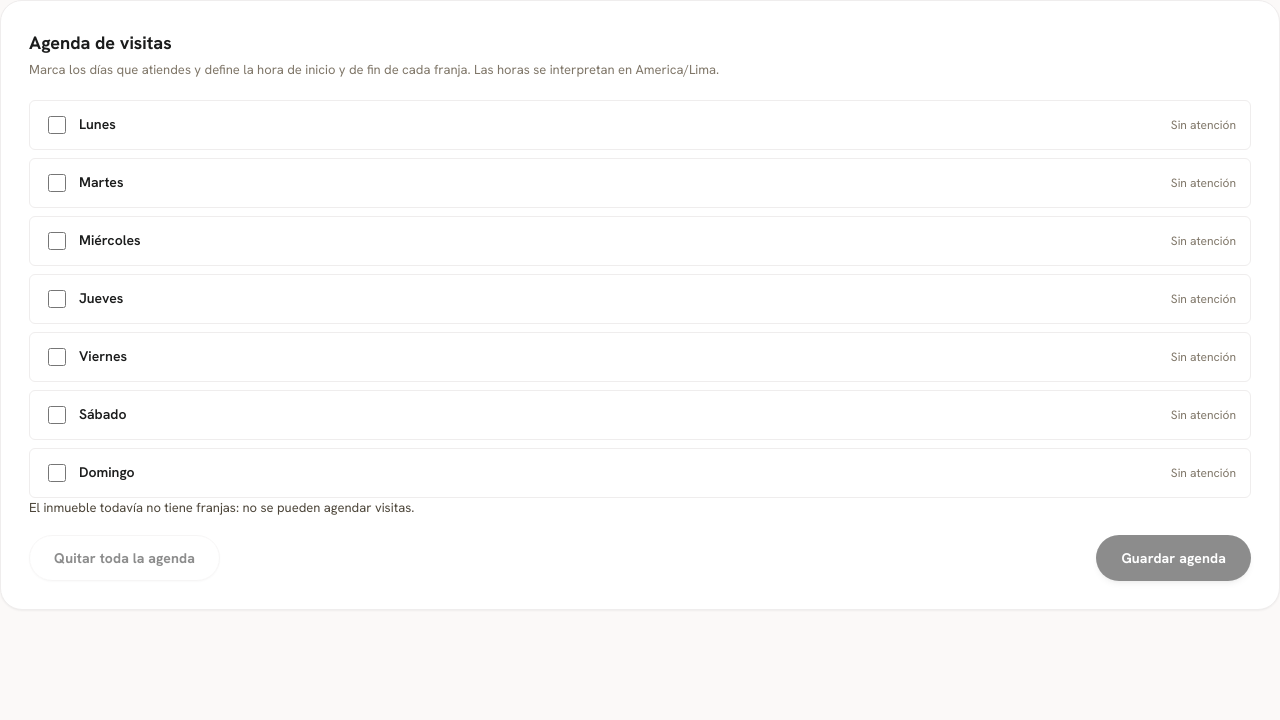
Test: ScheduleManager (accesibilidad) › anuncia el guardado o el rechazo conservando el borrador (éxito: true)
This screenshot has width=1280, height=720.
Press Tab
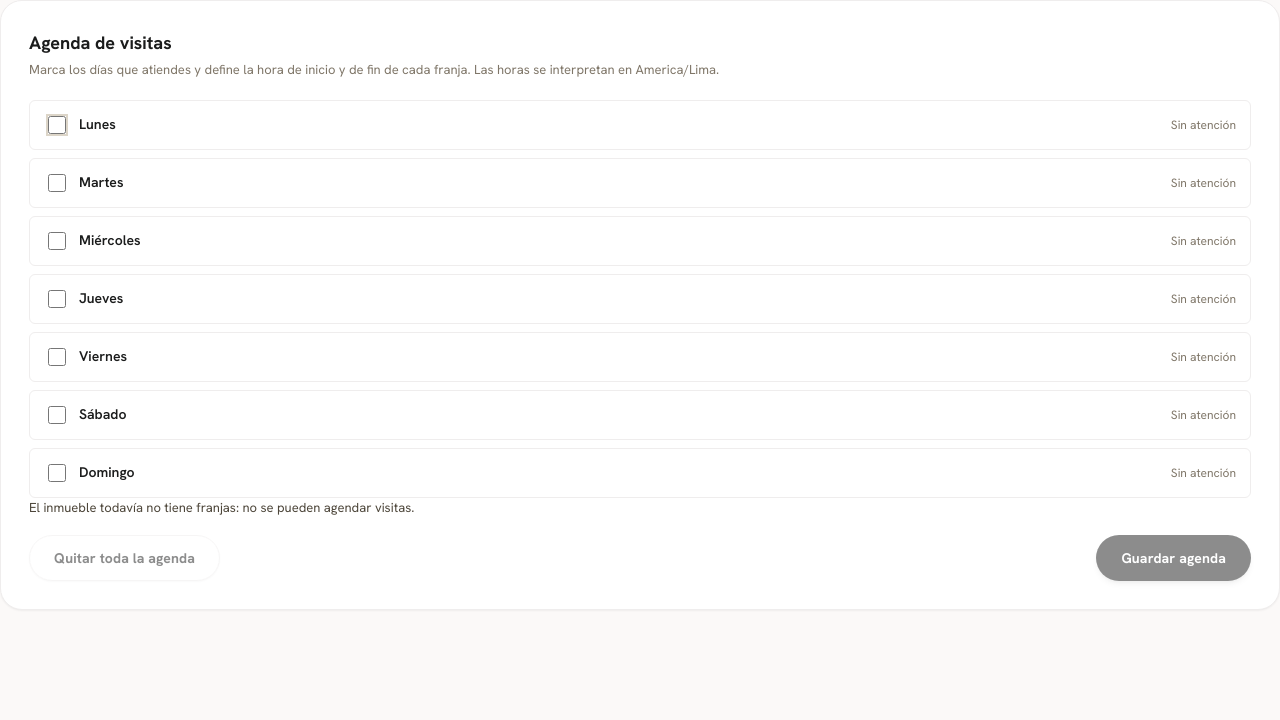
Type keys " "
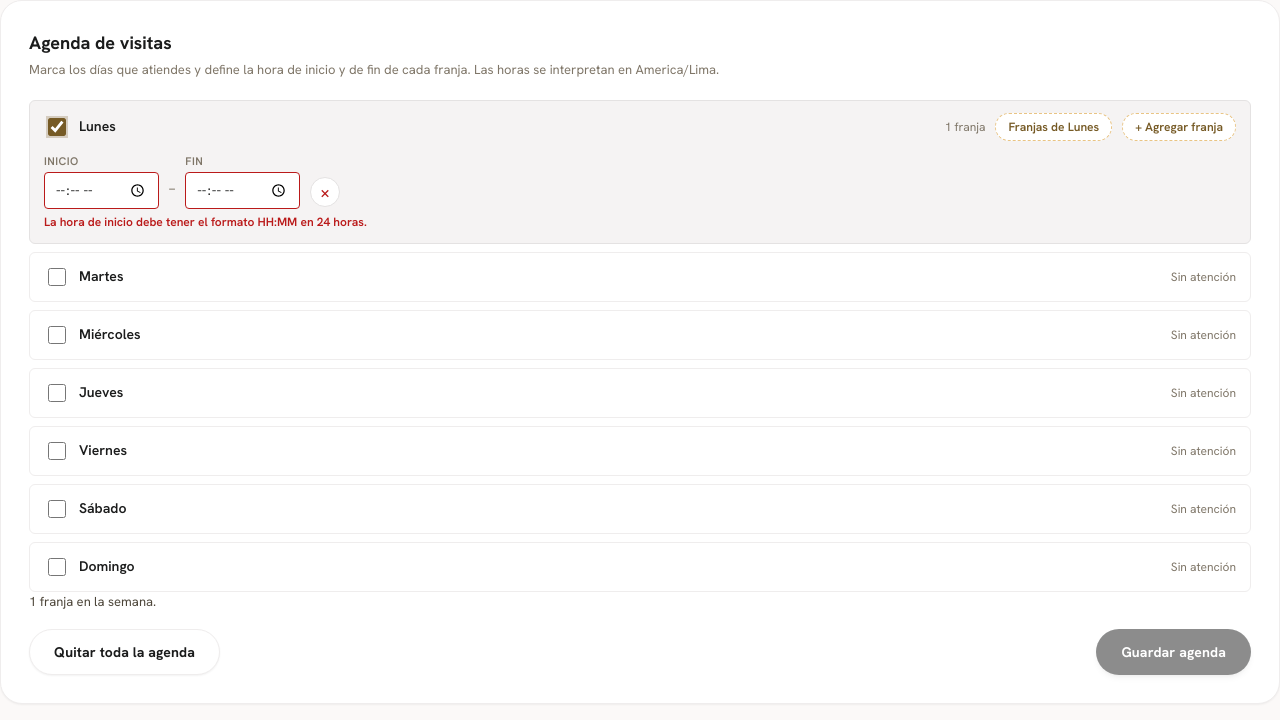
Type "09:00" into the time field named "Franja 1 de Lunes: hora de inicio" at (101, 190), box [44,172,159,209]
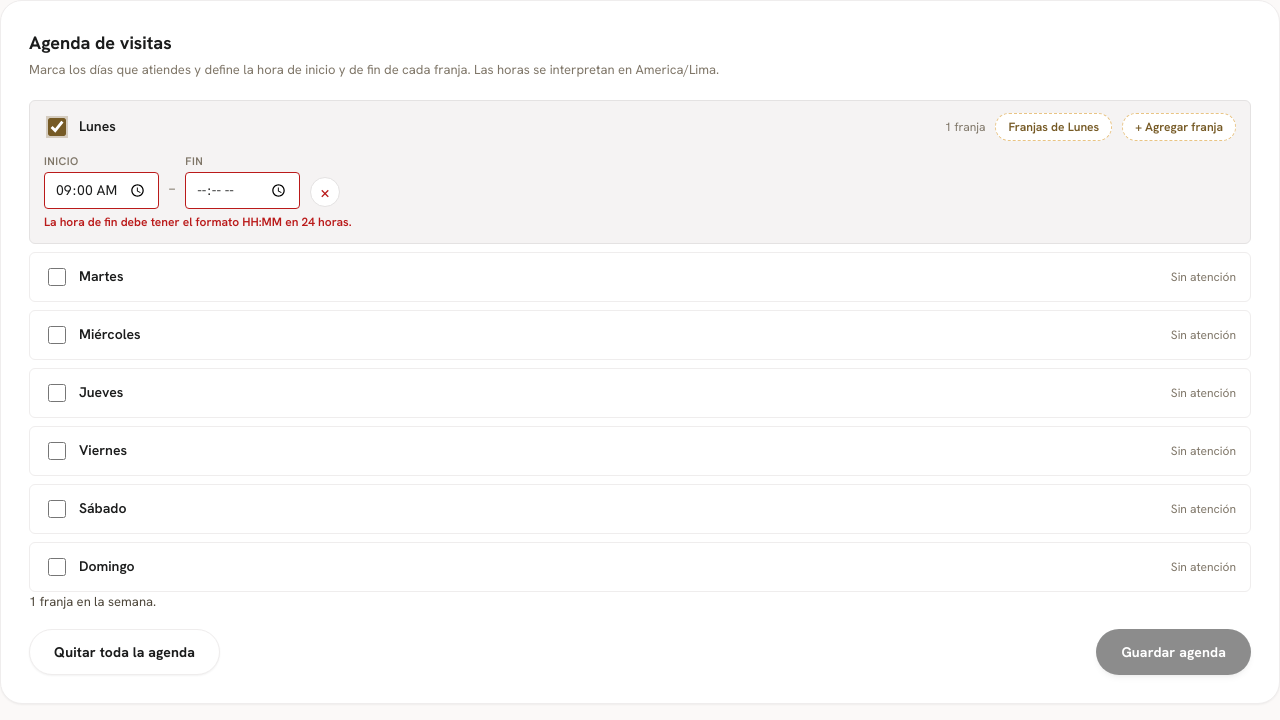
Type "10:00" into the time field named "Franja 1 de Lunes: hora de fin" at (243, 190), box [185,172,300,209]
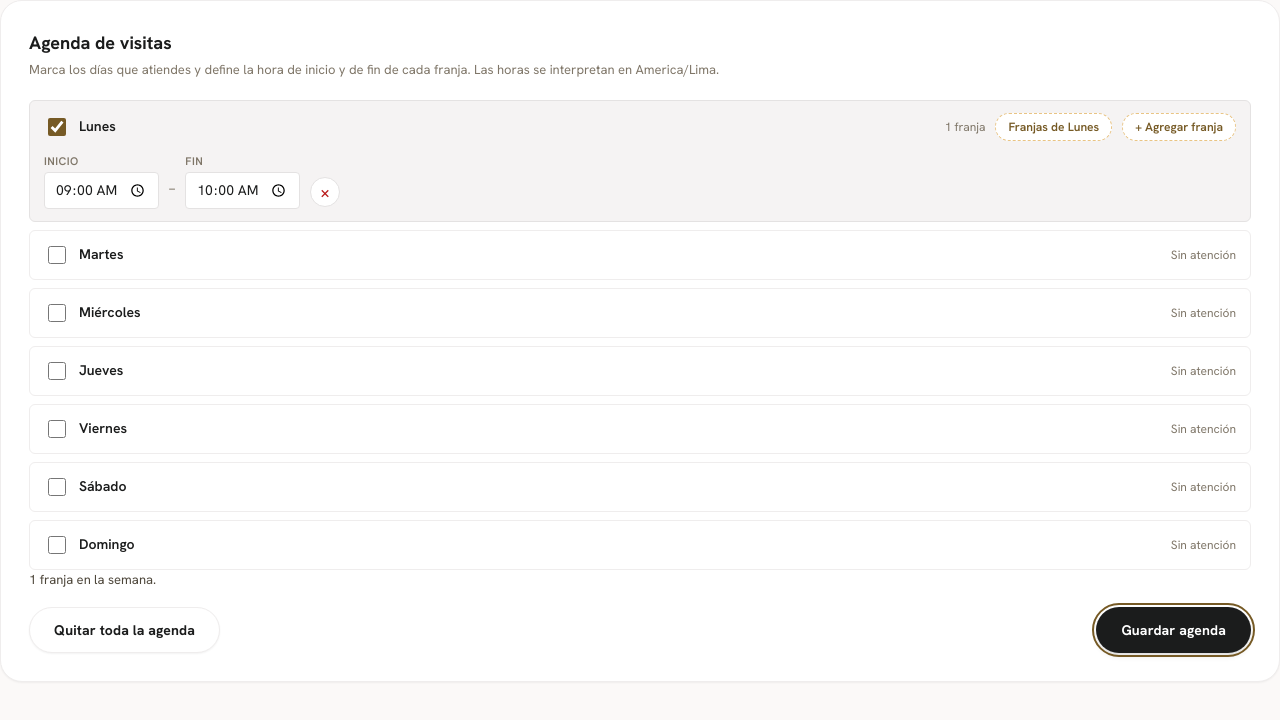
Press Enter
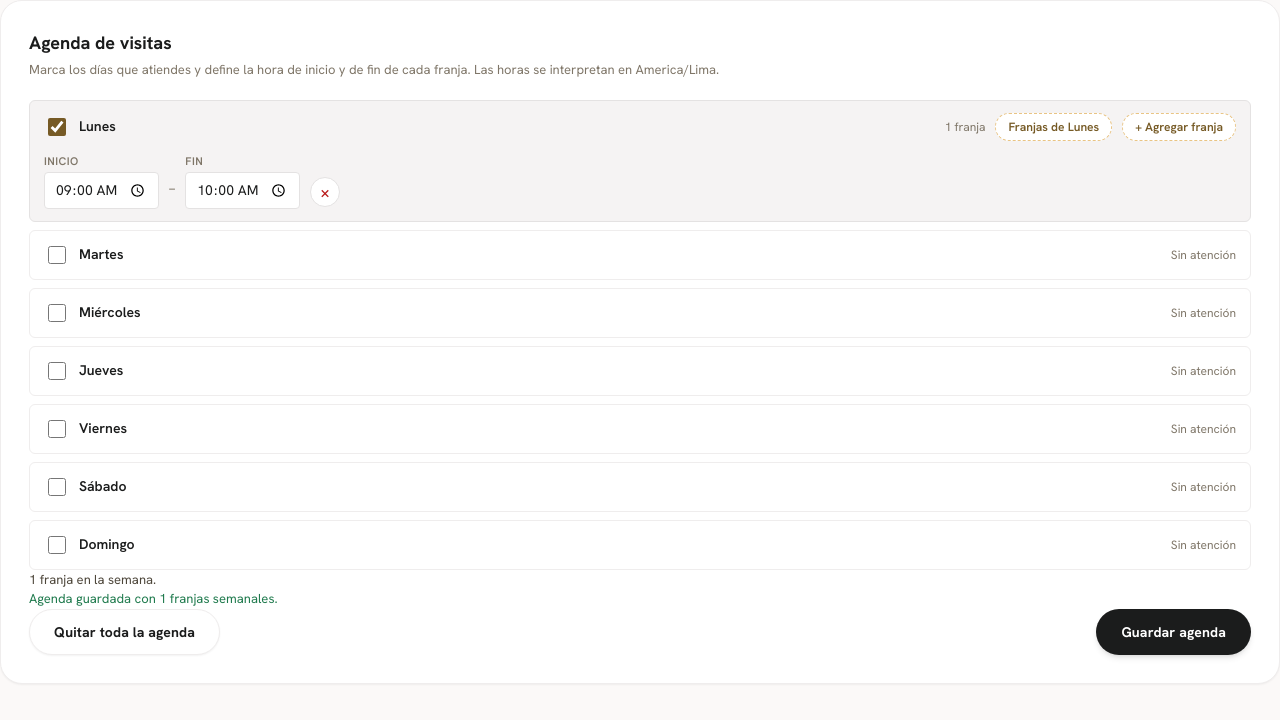
Now the message reads "Agenda guardada con 1 franjas semanales.", box [29,590,278,607]
